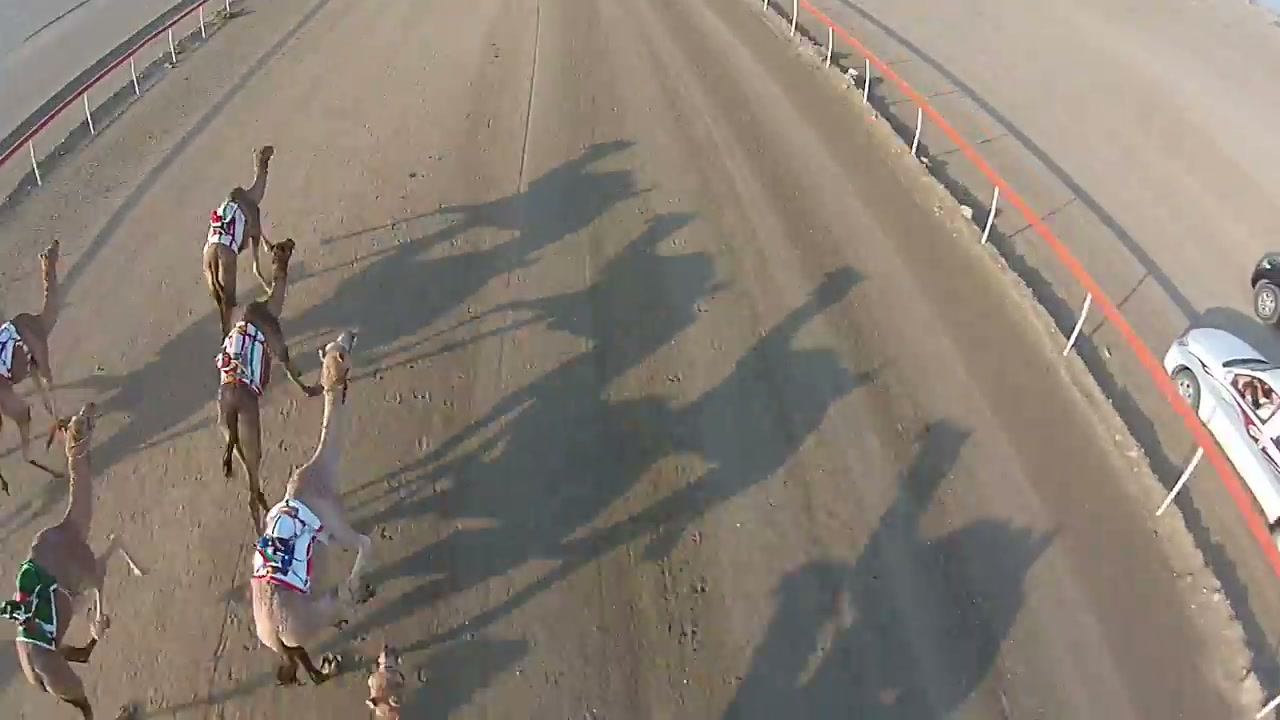animal_footprint: (342, 338, 471, 593), (644, 280, 728, 668)
